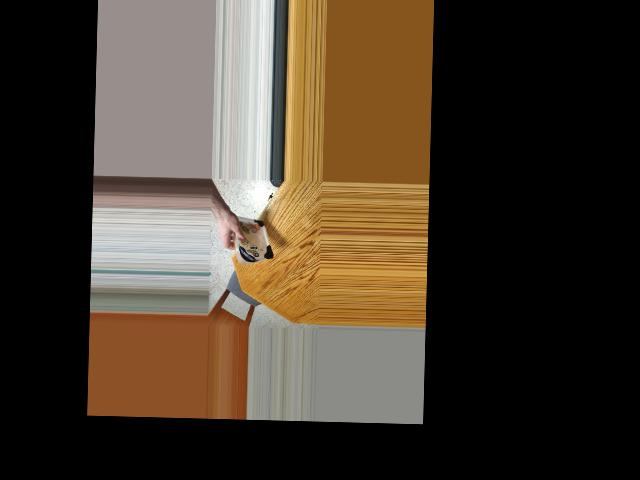cheese: (233, 214, 269, 266)
